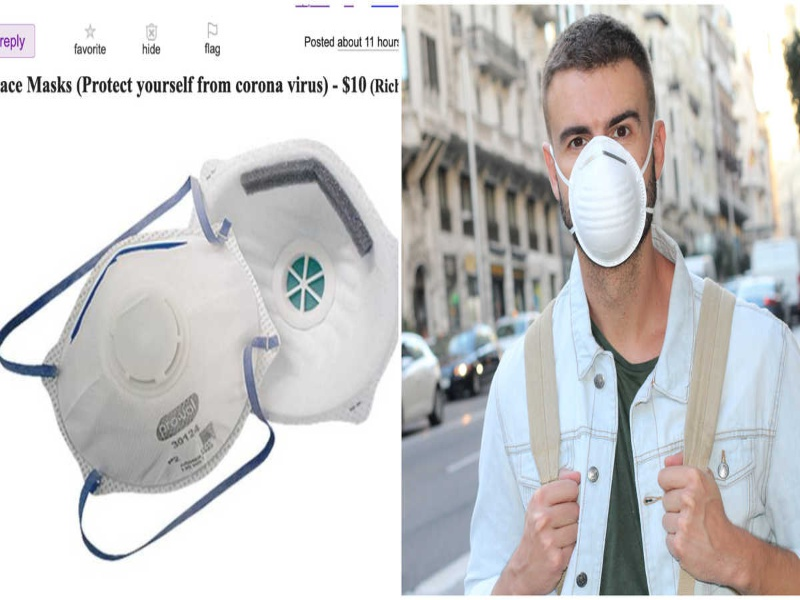ManaoArotava: (532, 32, 684, 290)
